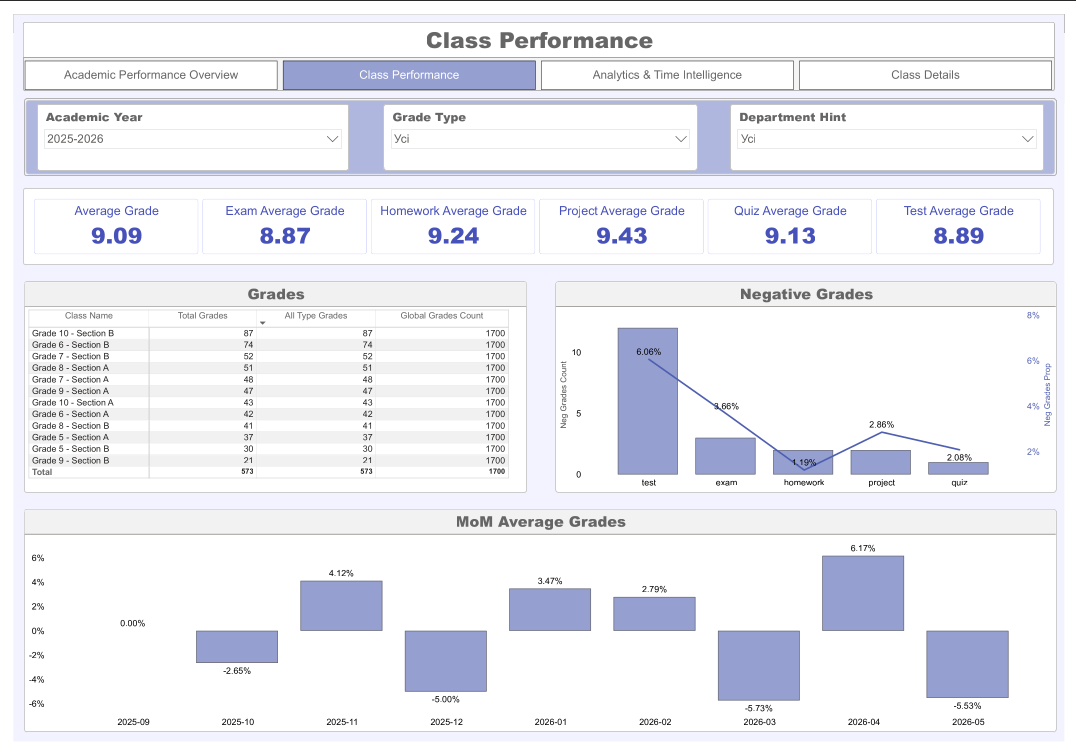

The page's visual inventory and layout, read from the dashboard file:
{"tool":"powerbi","page":{"name":"Class Performance","canvas":[1910,1320],"ordinal":1},"visuals":[{"type":"cardVisual","fields":{"Data":["_Measures.Average Grade","_Measures.Exam Average Grade","_Measures.Homework Average Grade","_Measures.Project Average Grade","_Measures.Quiz Average Grade","_Measures.Test Average Grade"]},"box":[17.5,315,1872.5,140],"z":0},{"type":"pivotTable","title":"Grades","fields":{"Values":["_Measures.Total Grades","_Measures.All Type Grade","_Measures.Global Grades Count"],"Rows":["classes.class_name"]},"box":[20,485,912.5,382.5],"z":1000},{"type":"lineClusteredColumnComboChart","title":"Negative Grades","fields":{"Y":["_Measures.Neg Grades Count"],"Y2":["_Measures.Neg Grades Prop"],"Category":["grades.grade_type"]},"box":[985,485,910,382.5],"z":2000},{"type":"clusteredColumnChart","title":"MoM Average Grades","fields":{"Y":["_Measures.MoM_AG%"],"Category":["Calendar.Year_Month"]},"box":[20,897.5,1875,405],"z":3000},{"type":"shape","box":[20,152.5,1875,140],"z":4000},{"type":"slicer","fields":{"Values":["grades.grade_type"]},"box":[672.5,162.5,570,120],"z":5000},{"type":"slicer","fields":{"Values":["subjects.department_hint"]},"box":[1302.5,162.5,570,120],"z":6000},{"type":"pageNavigator","title":"Class Performance","box":[17.6,13.7,1874.5,125],"z":7000},{"type":"slicer","fields":{"Values":["periods.academic_year"]},"box":[42.5,162.5,567.5,120],"z":8000}]}

Visuals, with their boxes in screenshot pixels (x1, y1, x2, y2), scaled from the page's 1910x1320 canvas onto the 1076x754 screenshot:
cardVisual - _Measures.Average Grade x _Measures.Exam Average Grade: [x1=10, y1=180, x2=1065, y2=260]
"Grades" pivotTable: [x1=11, y1=277, x2=525, y2=496]
"Negative Grades" lineClusteredColumnComboChart: [x1=555, y1=277, x2=1068, y2=496]
"MoM Average Grades" clusteredColumnChart: [x1=11, y1=513, x2=1068, y2=744]
shape: [x1=11, y1=87, x2=1068, y2=167]
slicer - grades.grade_type: [x1=379, y1=93, x2=700, y2=161]
slicer - subjects.department_hint: [x1=734, y1=93, x2=1055, y2=161]
"Class Performance" pageNavigator: [x1=10, y1=8, x2=1066, y2=79]
slicer - periods.academic_year: [x1=24, y1=93, x2=344, y2=161]
